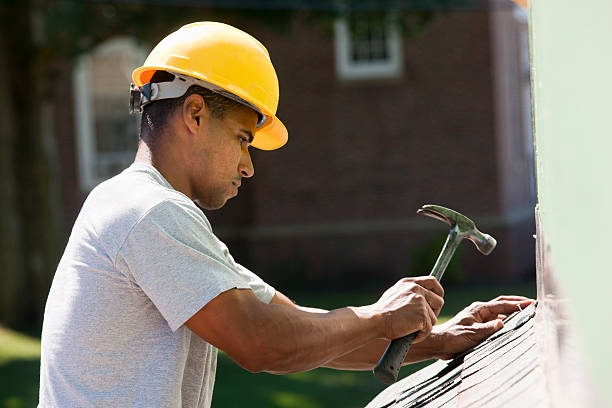hammer: (372, 202, 497, 385)
helmet: (125, 20, 289, 210)
person: (34, 15, 290, 408)
